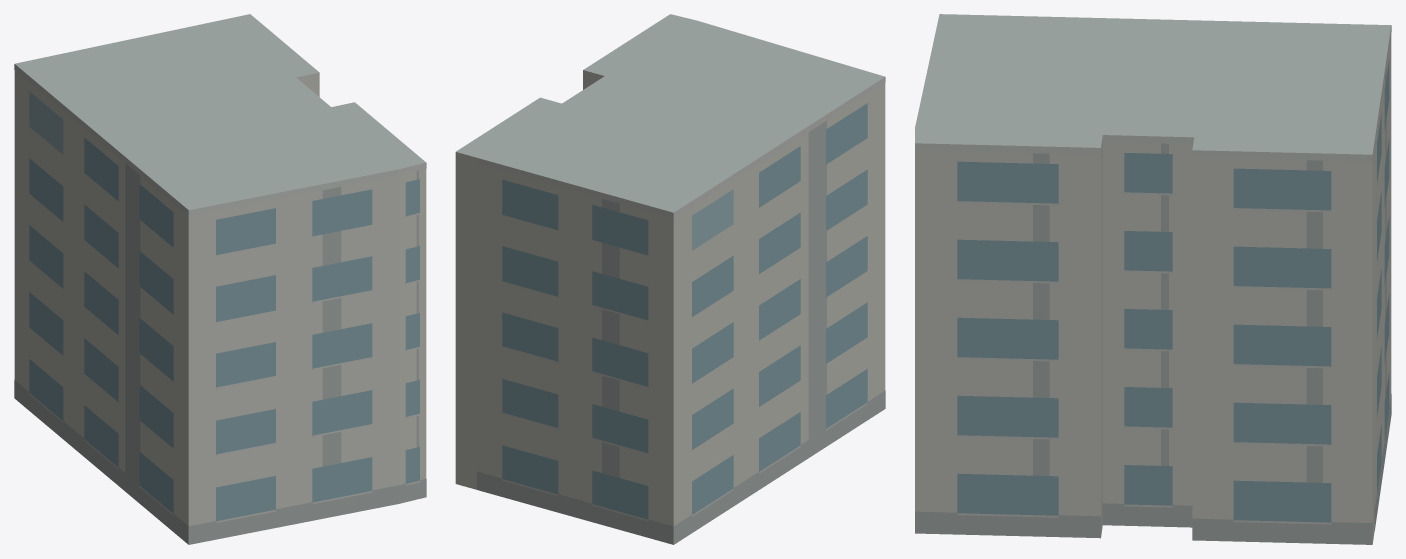
Rendered from survey-upis-32894123.glb.
3 renders of one model, left to right at view 1: azimuth 30°, elevation 25°; view 2: azimuth 150°, elevation 25°; view 3: azimuth 270°, elevation 25°, orthographic. The views are drawn at different scales.
Visible parts, largest first — view 1: survey-upis-32894123.tmp; view 2: survey-upis-32894123.tmp; view 3: survey-upis-32894123.tmp.
Boxes of the visible parts, x1,y1,x2,y2 form: survey-upis-32894123.tmp: (14, 14, 426, 544); survey-upis-32894123.tmp: (455, 14, 885, 544); survey-upis-32894123.tmp: (915, 14, 1391, 544).
Bounding box in the file's own units: 10.22 × 13.2 × 14.63.
